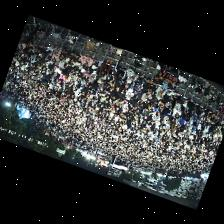person: (114, 54, 126, 79), (100, 58, 113, 75), (156, 81, 168, 98), (173, 96, 182, 117), (152, 89, 163, 106), (164, 89, 178, 102), (144, 79, 156, 94), (127, 68, 139, 82), (164, 102, 173, 120), (105, 69, 115, 85), (81, 54, 93, 67), (69, 51, 80, 64), (134, 98, 144, 112), (181, 97, 190, 112), (60, 47, 71, 59), (89, 79, 98, 93), (181, 114, 189, 129), (134, 75, 144, 87), (123, 76, 133, 88), (126, 84, 134, 99), (134, 81, 144, 93), (142, 87, 151, 100), (36, 44, 47, 54), (69, 64, 79, 75), (45, 44, 54, 56), (115, 79, 124, 91), (196, 105, 204, 118), (188, 101, 195, 115), (74, 58, 82, 70), (194, 111, 200, 126), (68, 74, 78, 83), (92, 59, 102, 68), (50, 54, 60, 63), (59, 58, 66, 70), (98, 74, 107, 83), (85, 66, 94, 75), (89, 71, 97, 81), (210, 113, 218, 123), (171, 120, 177, 133), (176, 114, 182, 127), (190, 114, 195, 128), (108, 81, 115, 91), (138, 91, 143, 104), (55, 45, 63, 53), (160, 63, 168, 71), (54, 68, 62, 76), (33, 40, 38, 52), (35, 53, 43, 60), (80, 67, 85, 77), (64, 57, 69, 67), (217, 116, 223, 124), (54, 60, 60, 68), (205, 109, 211, 117)
